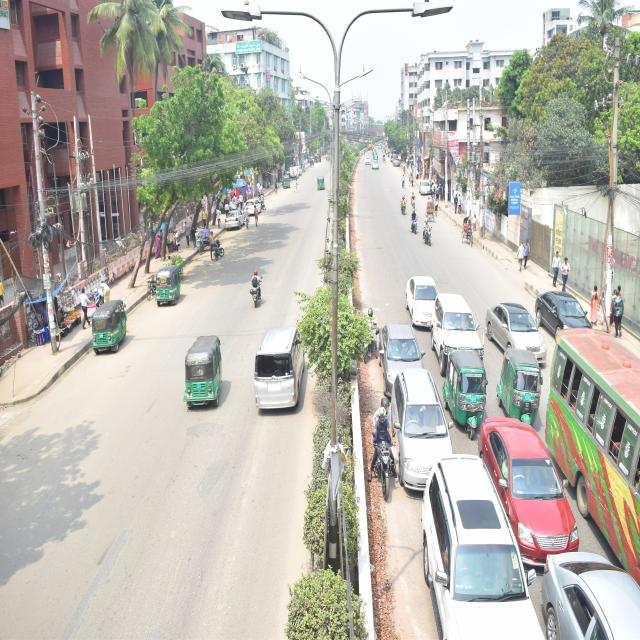bus: (548, 267, 640, 562)
car: (402, 415, 545, 640), (528, 448, 640, 640), (471, 392, 592, 550), (362, 351, 469, 475), (479, 292, 552, 377), (432, 269, 483, 375), (536, 271, 595, 354), (372, 314, 428, 378), (396, 259, 437, 329), (220, 192, 246, 234), (241, 193, 269, 226), (418, 170, 440, 202), (286, 164, 309, 185), (372, 154, 382, 180), (364, 148, 372, 166)
microbus: (244, 297, 333, 428)
motorbike: (360, 378, 402, 508), (342, 294, 384, 374), (236, 247, 269, 317), (198, 224, 230, 265), (390, 187, 409, 224), (406, 203, 421, 241), (422, 214, 436, 250)
